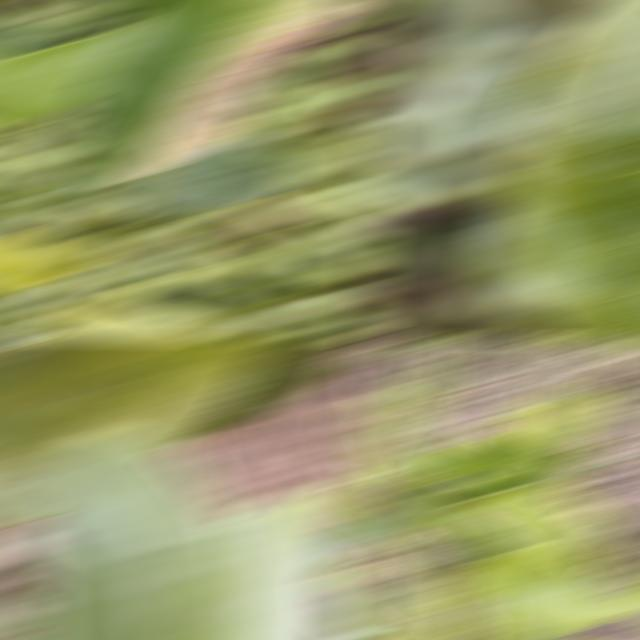Leaf: (0, 342, 285, 522), (72, 3, 364, 178), (19, 432, 250, 637), (511, 3, 640, 336), (213, 491, 340, 637), (443, 552, 640, 630), (198, 342, 356, 427), (128, 134, 307, 208), (0, 33, 132, 131), (489, 491, 612, 563), (51, 295, 239, 336), (359, 559, 445, 637), (432, 444, 574, 490), (359, 423, 460, 478), (359, 169, 481, 214), (359, 490, 451, 544), (0, 241, 82, 293), (435, 484, 538, 523), (527, 401, 595, 455), (393, 364, 448, 419), (457, 579, 509, 637), (0, 20, 88, 54), (508, 418, 563, 472), (562, 389, 623, 437), (437, 530, 502, 573), (472, 408, 528, 448), (536, 447, 589, 488), (387, 399, 439, 434), (79, 173, 145, 198), (93, 3, 173, 22), (505, 390, 565, 414), (359, 393, 407, 418), (415, 342, 461, 359), (380, 415, 410, 425), (546, 396, 582, 397)
